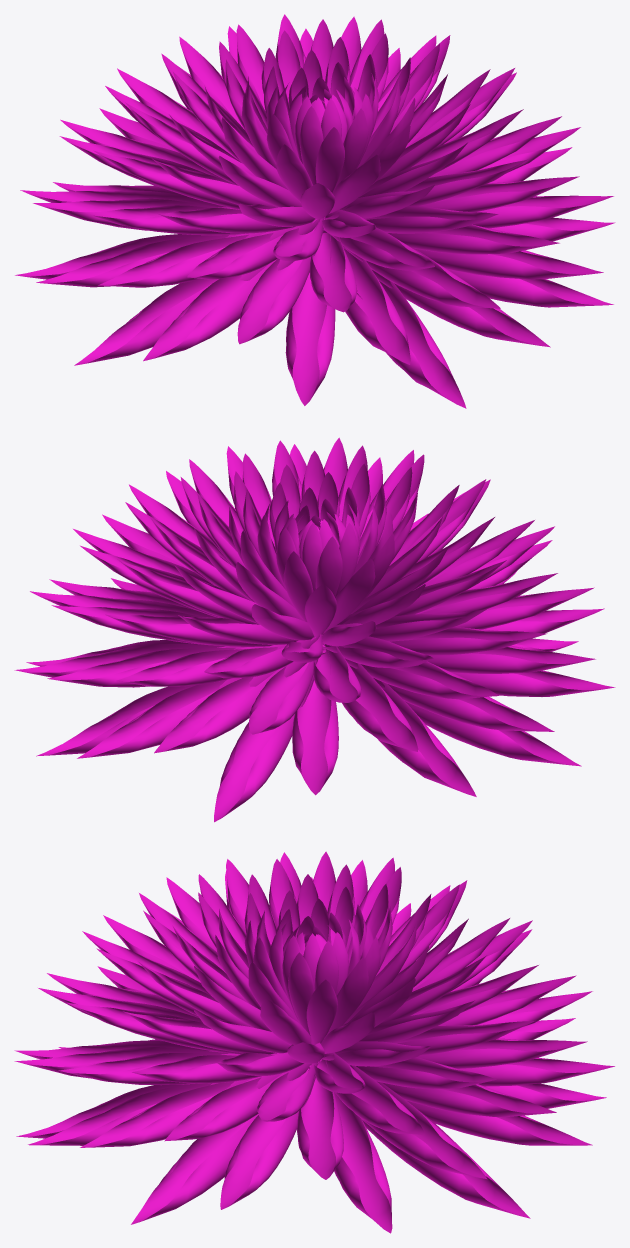
Rendered from flower6.glb.
3 renders of one model, top to bottom at view 1: azimuth 30°, elevation 25°; view 2: azimuth 150°, elevation 25°; view 3: azimuth 270°, elevation 25°, orthographic.
Parts seen in each view (by area): view 1: copy1; view 2: copy1; view 3: copy1.
Part boxes in pixels (x1=…): copy1: x1=15, y1=14, x2=615, y2=408; copy1: x1=14, y1=437, x2=615, y2=822; copy1: x1=14, y1=851, x2=614, y2=1233.
Bounding box in the file's own units: 7.78 × 3.25 × 7.75.
